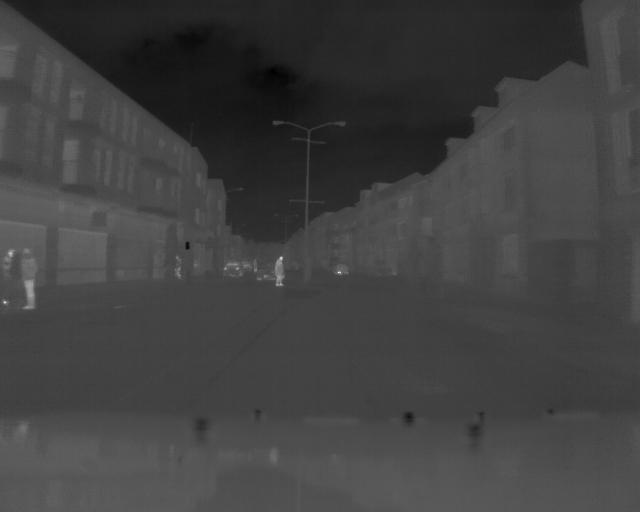car: (221, 260, 244, 277)
person: (19, 243, 40, 309), (270, 252, 287, 288), (3, 246, 13, 306), (174, 252, 181, 277)
